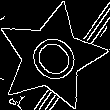O_SE: (18, 23, 85, 90)
